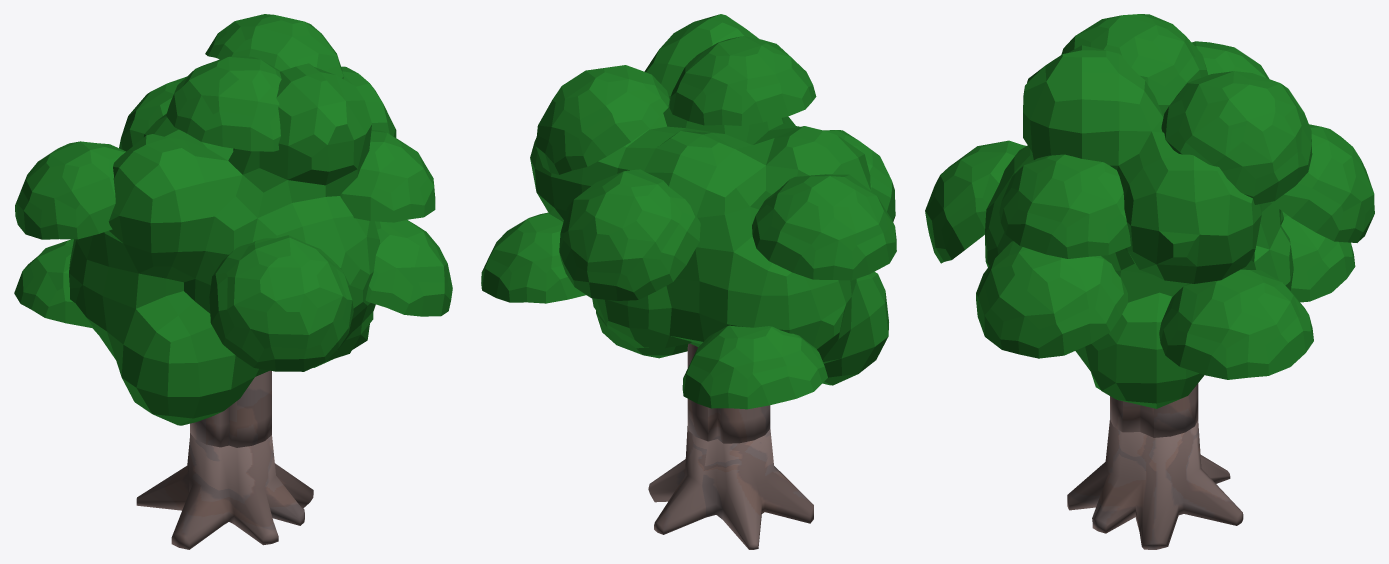
File: tree3.glb
The picture shows the model from 3 angles, left to right: view 1: azimuth 30°, elevation 25°; view 2: azimuth 150°, elevation 25°; view 3: azimuth 270°, elevation 25°; orthographic projection. The views are drawn at different scales.
Visible parts, largest first — view 1: leaves.001, trunk, trunk.001; view 2: leaves.001, trunk, trunk.001; view 3: leaves.001, trunk, trunk.001.
Boxes of the visible parts, left/top/right/bottom form: leaves.001: left=14, top=14, right=452, bottom=425; trunk: left=136, top=433, right=313, bottom=549; trunk.001: left=190, top=370, right=271, bottom=447; leaves.001: left=481, top=14, right=896, bottom=409; trunk: left=648, top=425, right=813, bottom=549; trunk.001: left=687, top=343, right=770, bottom=443; leaves.001: left=925, top=14, right=1374, bottom=408; trunk: left=1067, top=419, right=1243, bottom=549; trunk.001: left=1110, top=383, right=1198, bottom=437.
Bounding box in the file's own units: 7.82 × 9.1 × 7.55.
Materials: 2 (1 with a texture image).
